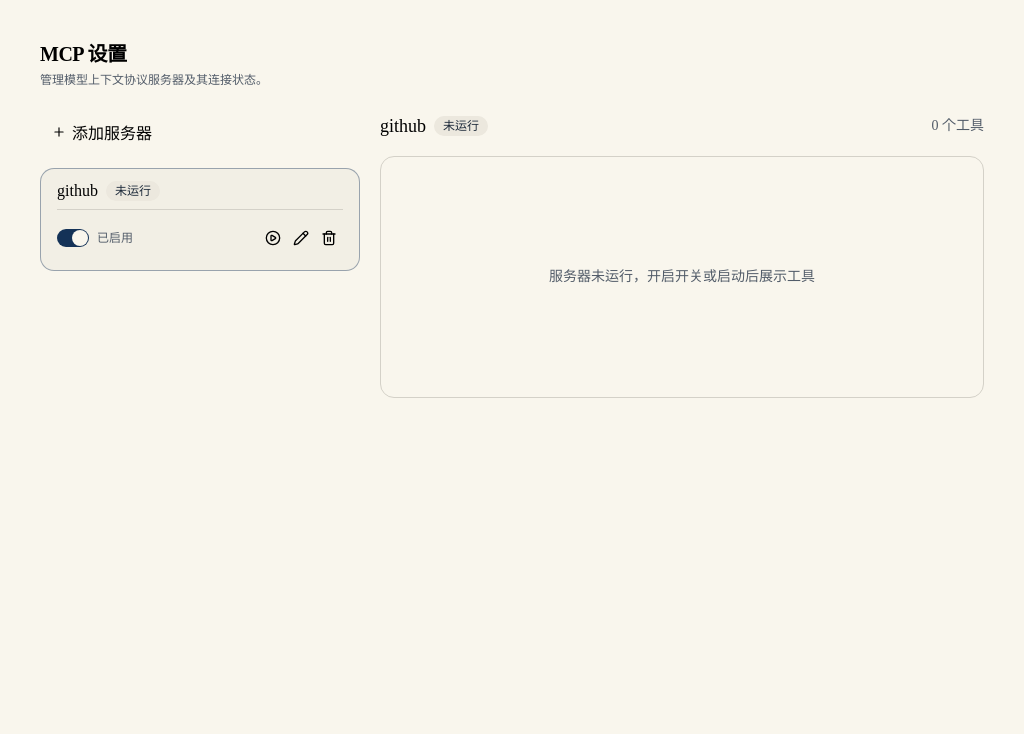
Test: 协议服务器管理页 › 编辑有权限规则的服务器时提示重命名迁移数量
Click the button named "编辑服务器：github" at [301, 238], box [287,218,315,258]
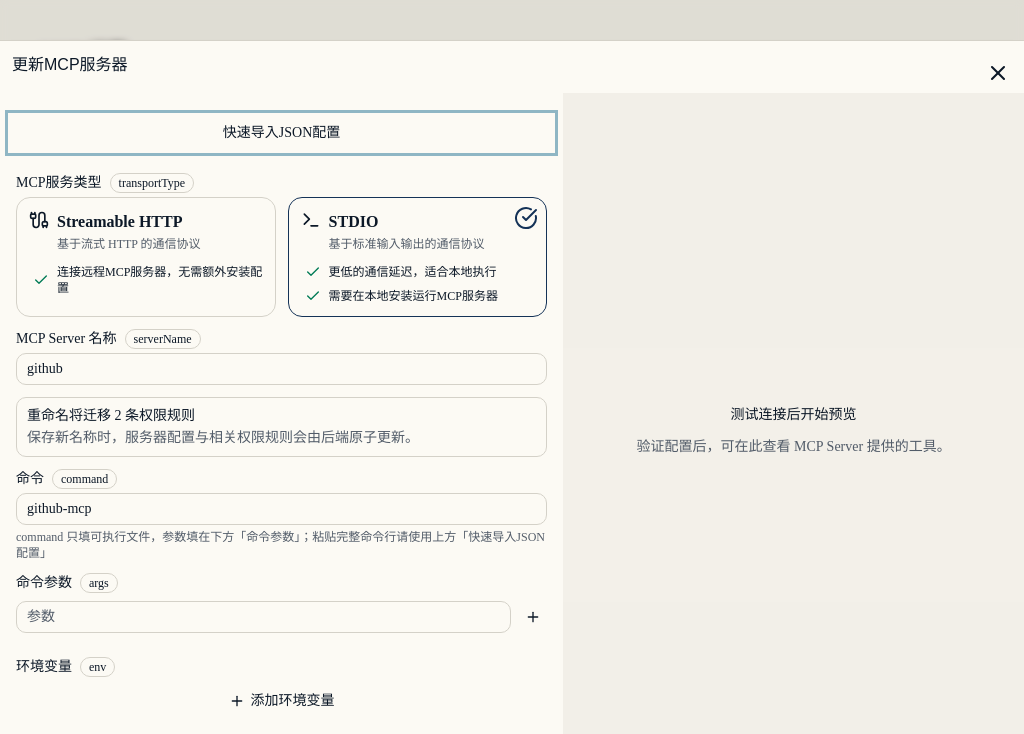
Expected: the text "重命名将迁移 2 条权限规则" is shown, [27,408,195,423]
Expected: the text "保存新名称时，服务器配置与相关权限规则会由后端原子更新。" is shown, [27,430,419,445]
